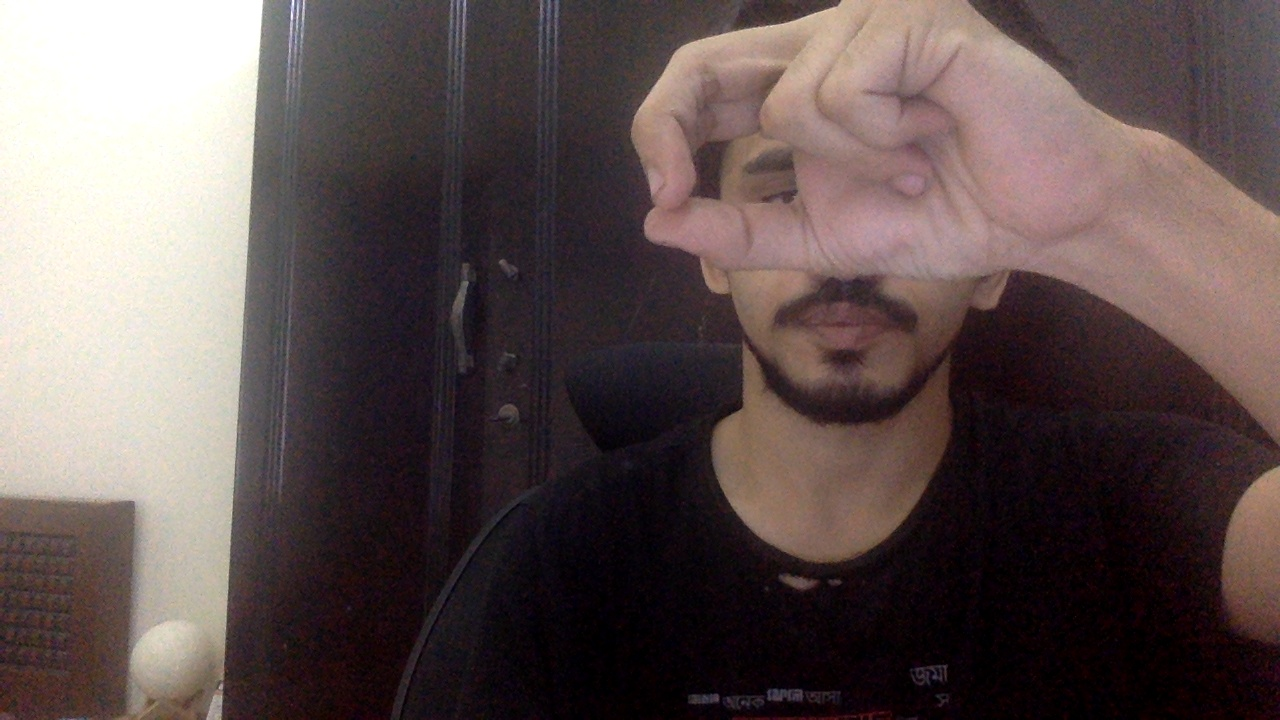zero: (630, 1, 1118, 281)
